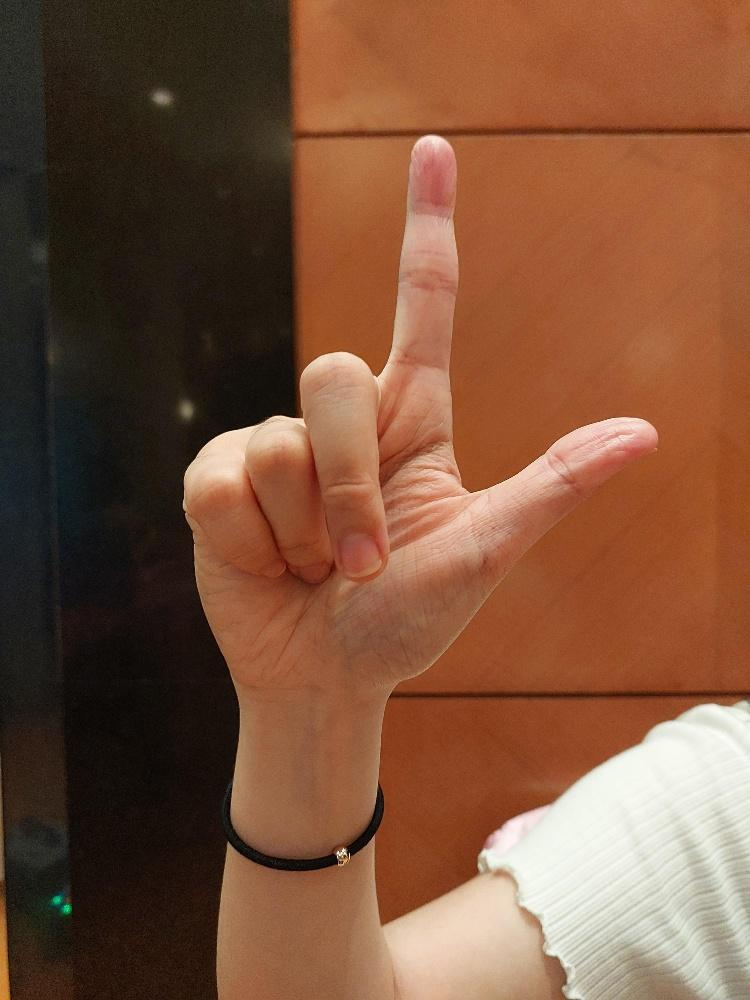l: (181, 131, 660, 686)
